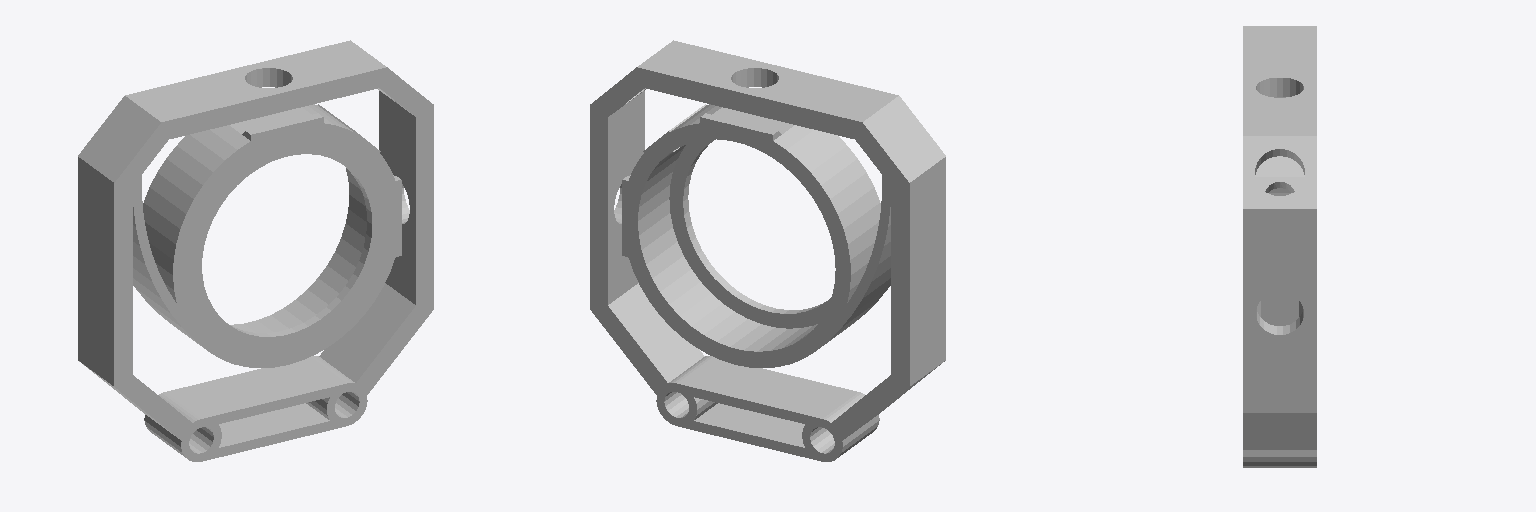
The model's file is Cube 1x1 V5_One Inch Lense Holder (V5).obj.
3 renders of one model, left to right at view 1: azimuth 30°, elevation 25°; view 2: azimuth 150°, elevation 25°; view 3: azimuth 270°, elevation 25°, orthographic.
Visible parts, largest first — view 1: Solid1:16; view 2: Solid1:16; view 3: Solid1:16.
Part boxes in pixels (x1,y1,x2,y2): Solid1:16: (78, 40, 433, 461); Solid1:16: (590, 40, 945, 461); Solid1:16: (1243, 26, 1316, 467).
Size of the model in its own units: 43.94 by 45.83 by 8.75.